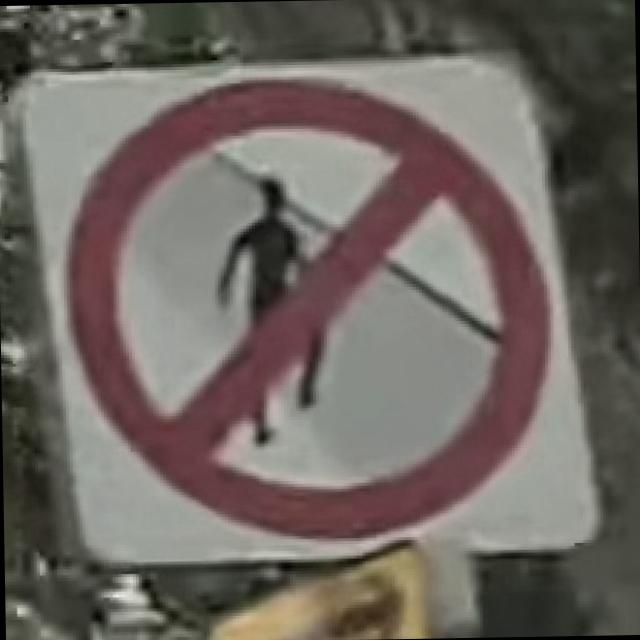nojaywalking_sign: (10, 45, 598, 573)
